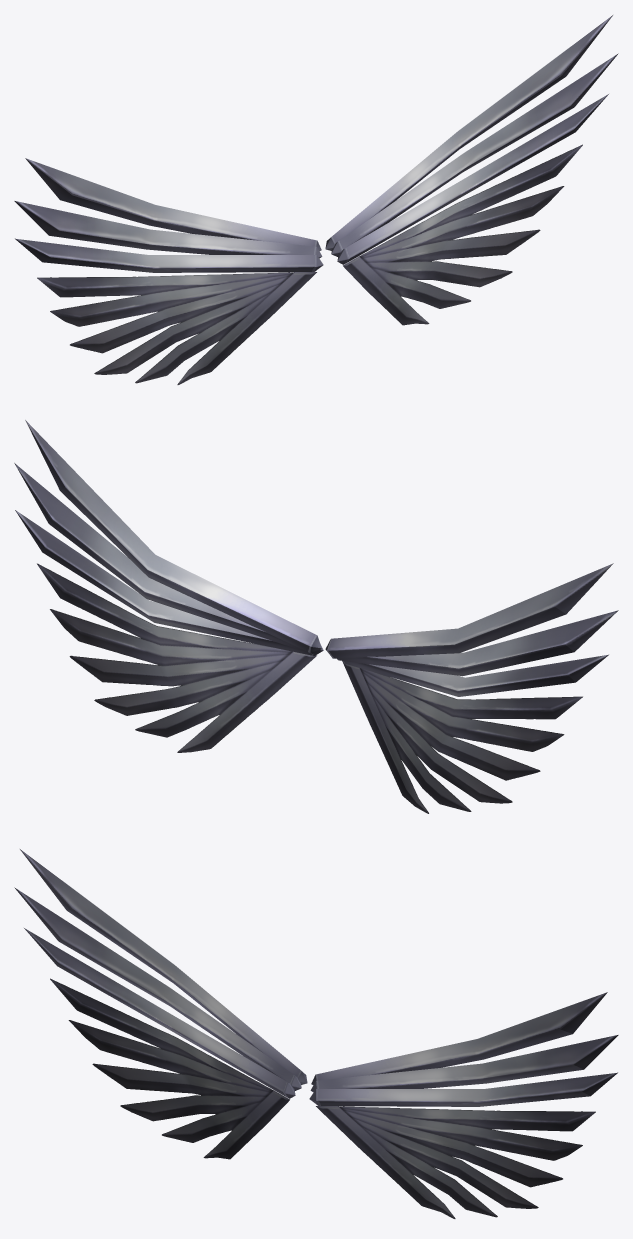
The picture shows the model from 3 angles, top to bottom: view 1: azimuth 30°, elevation 25°; view 2: azimuth 150°, elevation 25°; view 3: azimuth 330°, elevation 25°; orthographic projection.
Visible parts, largest first — view 1: 3_Z_19; view 2: 3_Z_19; view 3: 3_Z_19.
Part boxes in pixels (x1,y1,x2,y2): 3_Z_19: (14,15,618,384); 3_Z_19: (14,420,618,813); 3_Z_19: (14,849,618,1218).
Size of the model in its own units: 268 by 24.17 by 120.
